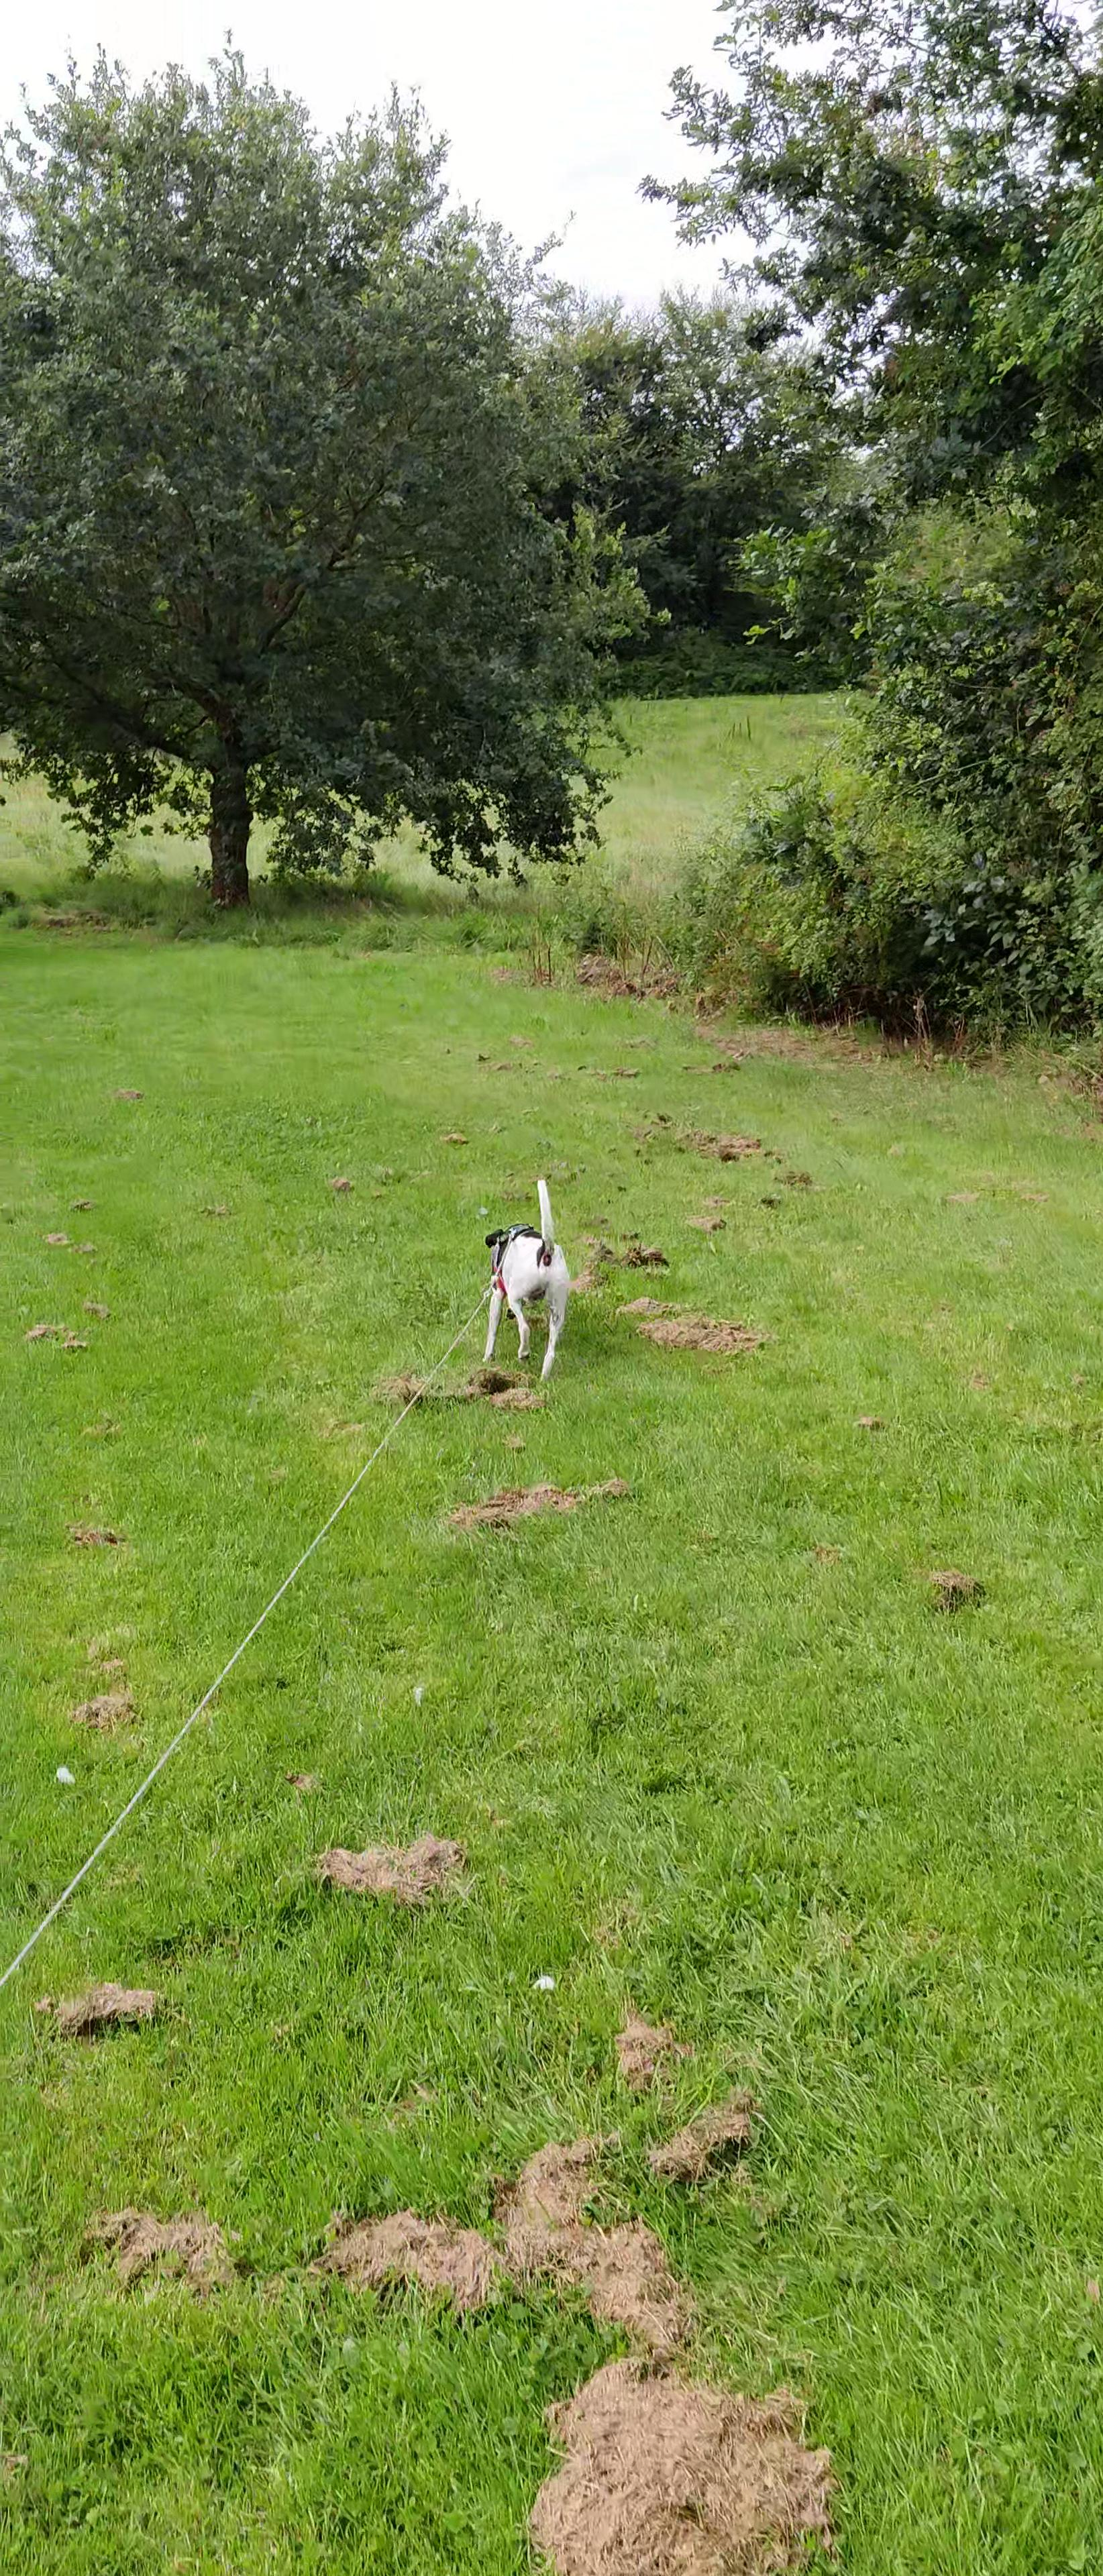Dog: (478, 1173, 570, 1382)
